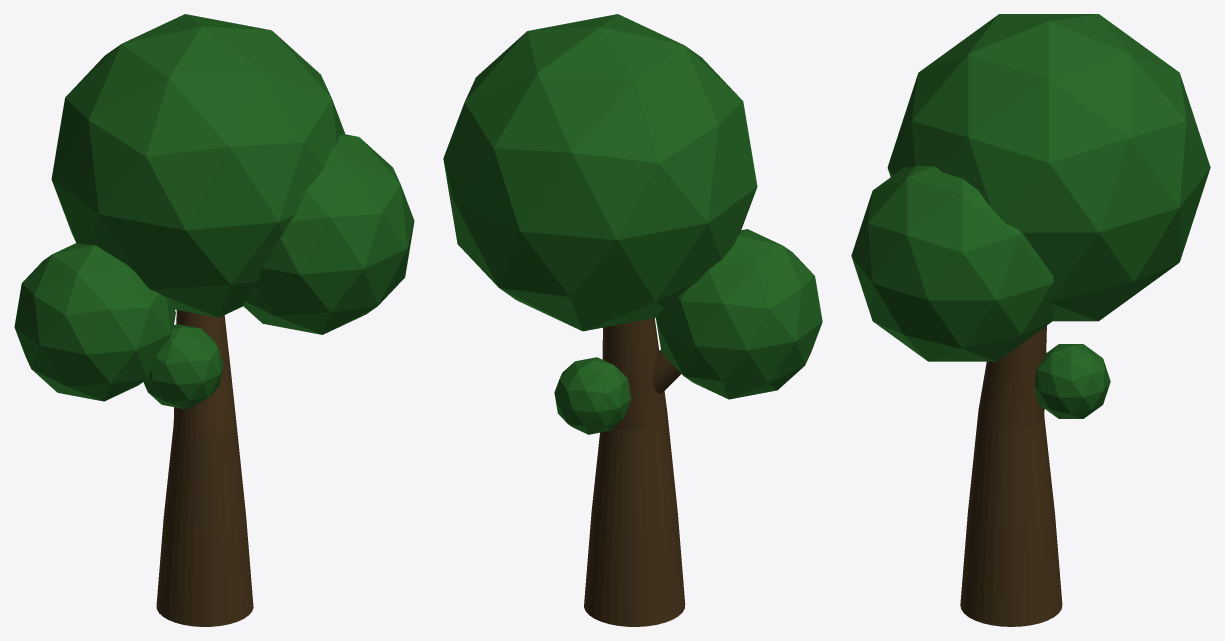
File: Tree_2.fbx
3 renders of one model, left to right at view 1: azimuth 30°, elevation 25°; view 2: azimuth 150°, elevation 25°; view 3: azimuth 270°, elevation 25°, orthographic. The views are drawn at different scales.
Parts seen in each view (by area): view 1: Icosphere.003, Icosphere.002, Cylinder, Icosphere, Icosphere.001; view 2: Icosphere.003, Cylinder, Icosphere, Icosphere.004, Cylinder.001; view 3: Icosphere.003, Icosphere.002, Cylinder, Icosphere.004.
Part boxes in pixels (<box>): Icosphere.003: <box>51,14,344,317</box>; Icosphere.002: <box>243,134,414,334</box>; Cylinder: <box>156,310,253,626</box>; Icosphere: <box>14,243,175,401</box>; Icosphere.001: <box>143,324,223,409</box>; Icosphere.003: <box>443,14,757,331</box>; Cylinder: <box>584,318,685,626</box>; Icosphere: <box>656,229,822,399</box>; Icosphere.004: <box>554,357,631,434</box>; Cylinder.001: <box>652,350,681,393</box>; Icosphere.003: <box>887,14,1210,321</box>; Icosphere.002: <box>851,165,1055,361</box>; Cylinder: <box>960,325,1062,626</box>; Icosphere.004: <box>1034,344,1110,418</box>.
Size of the model in its own units: 814 by 1278 by 703.
